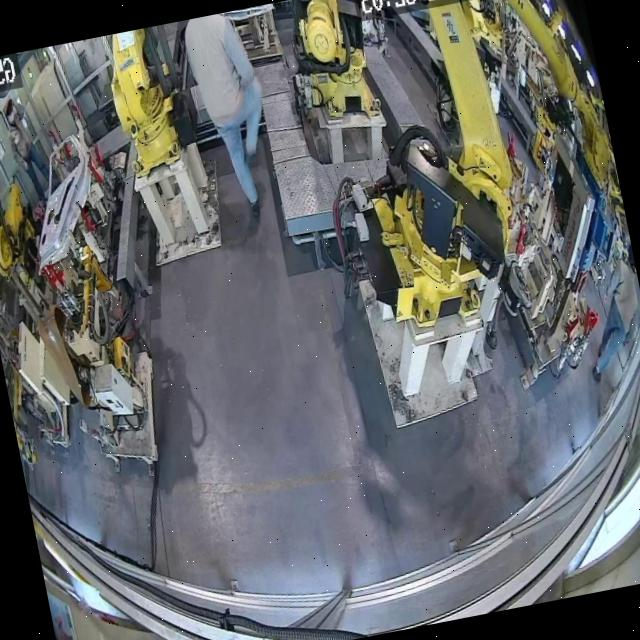Person: (180, 8, 286, 225), (1, 92, 66, 215)
